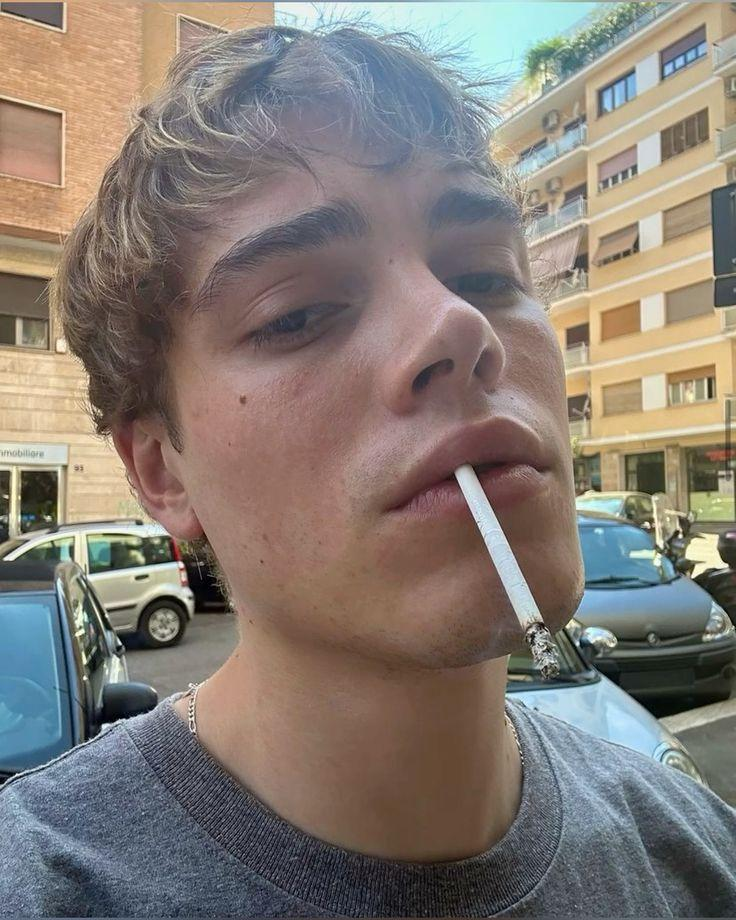cigarette: (454, 464, 560, 681)
